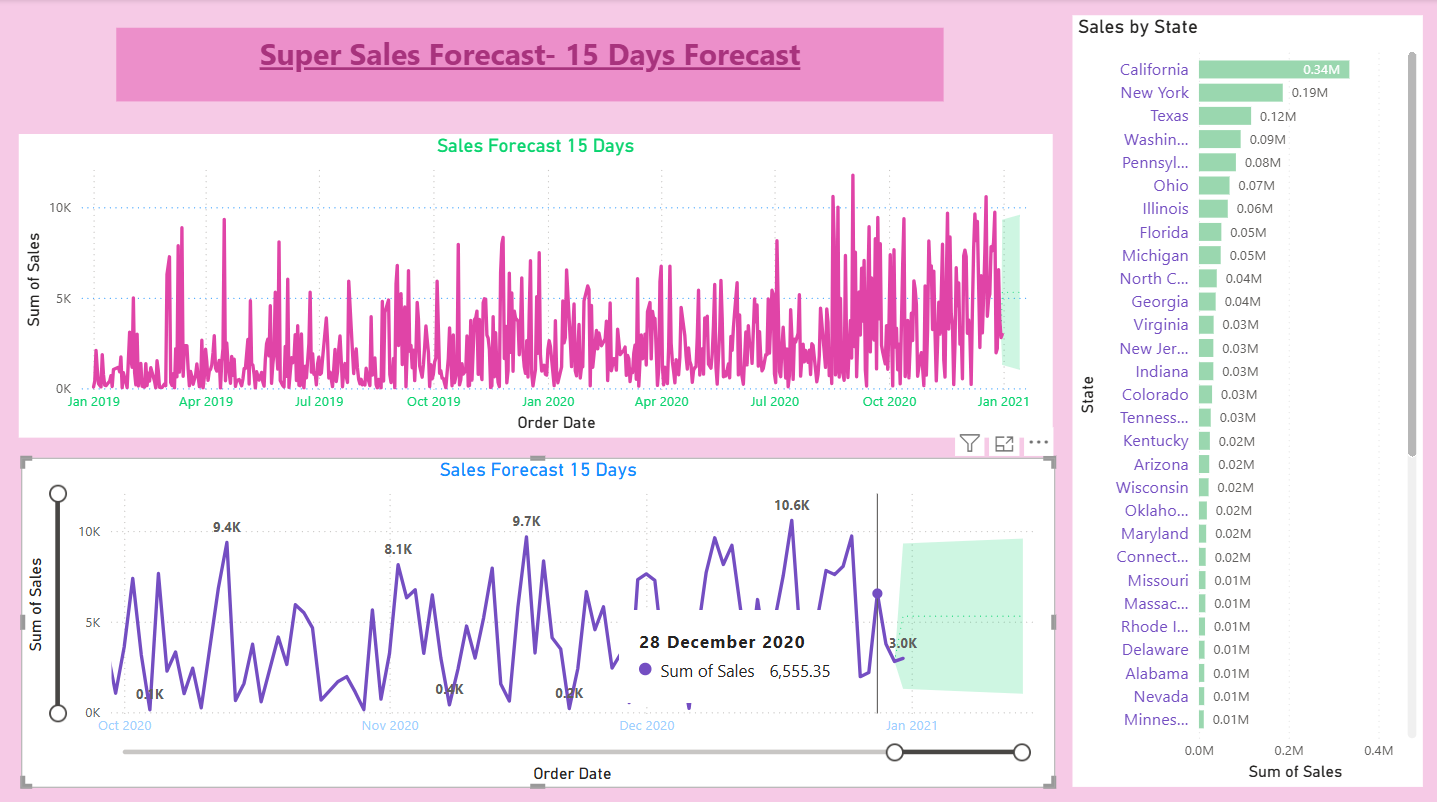

The page's visual inventory and layout, read from the dashboard file:
{"tool":"powerbi","page":{"name":"Page 2","canvas":[1280,720],"ordinal":1},"visuals":[{"type":"lineChart","title":"Sales Forecast 15 Days","fields":{"Y":["Sum(SuperStore_Sales_Dataset.Sales)"],"Category":["SuperStore_Sales_Dataset.Order Date"]},"box":[16.7,120.2,920.6,270.5],"z":0},{"type":"lineChart","title":"Sales Forecast 15 Days","fields":{"Y":["Sum(SuperStore_Sales_Dataset.Sales)"],"Category":["SuperStore_Sales_Dataset.Order Date"]},"box":[18.9,408.5,920.6,293.9],"z":1000},{"type":"textbox","box":[103.5,25.6,736.9,65.7],"z":2000},{"type":"clusteredBarChart","title":"Sales by State","fields":{"Category":["SuperStore_Sales_Dataset.State"],"Y":["Sum(SuperStore_Sales_Dataset.Sales)"]},"box":[955.1,14.5,311.7,686.8],"z":3000}]}

Visuals, with their boxes in screenshot pixels (x1, y1, x2, y2), scaled from the page's 1280x720 canvas onto the 1437x802 screenshot:
"Sales Forecast 15 Days" lineChart: BBox(19, 134, 1052, 435)
"Sales Forecast 15 Days" lineChart: BBox(21, 455, 1055, 782)
textbox: BBox(116, 29, 943, 102)
"Sales by State" clusteredBarChart: BBox(1072, 16, 1422, 781)
